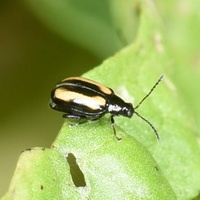insect: (49, 75, 163, 140)
